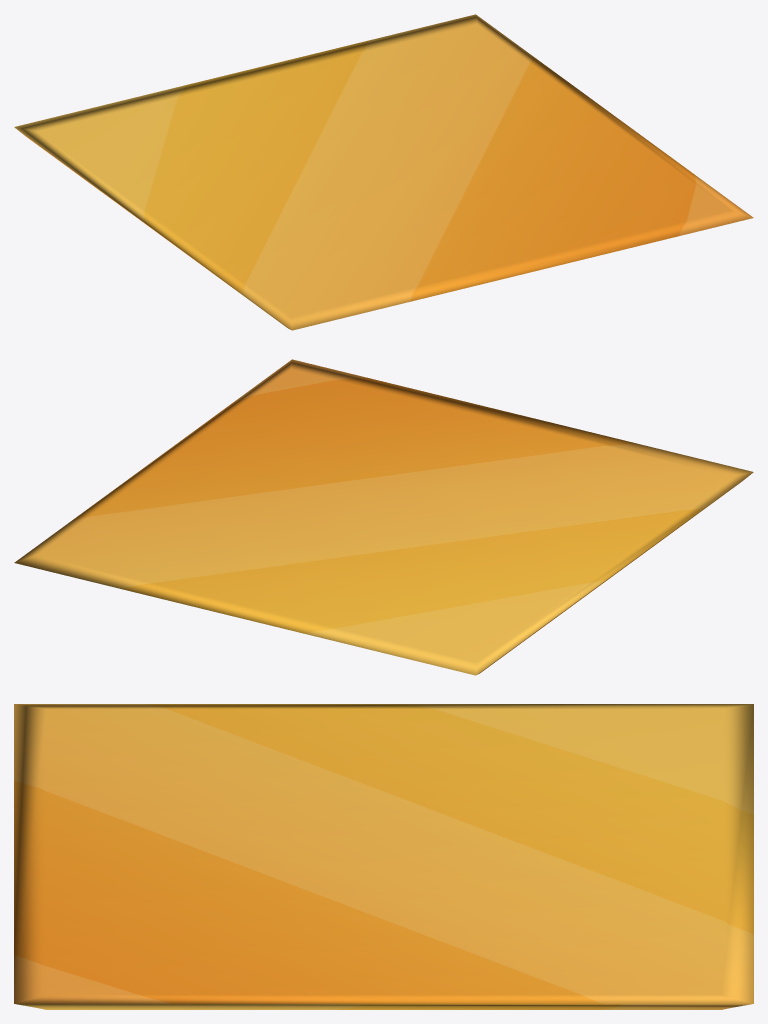
The model's file is Cheese_American.fbx.
3 views of the same model, one above another, from view 1: azimuth 30°, elevation 25°; view 2: azimuth 150°, elevation 25°; view 3: azimuth 270°, elevation 25° (orthographic). The views are drawn at different scales.
Visible parts, largest first — view 1: Cheese_American; view 2: Cheese_American; view 3: Cheese_American.
Part boxes in pixels (x1=…): Cheese_American: x1=14, y1=14, x2=753, y2=330; Cheese_American: x1=14, y1=359, x2=753, y2=675; Cheese_American: x1=14, y1=704, x2=753, y2=1009.
Size of the model in its own units: 44.17 by 1.05 by 46.07.
1 material, 1 textured.
